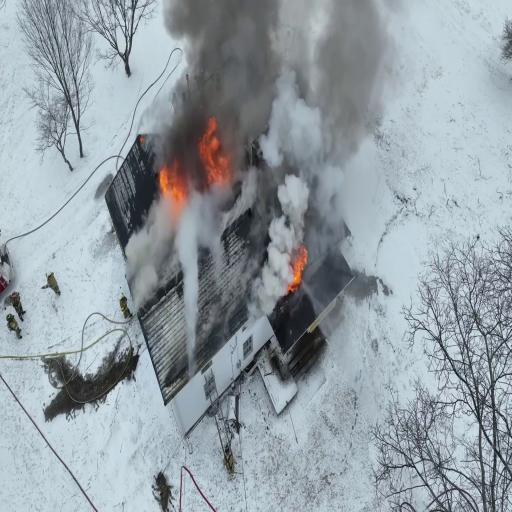fire: (160, 120, 228, 205)
smoke: (241, 26, 348, 156)
